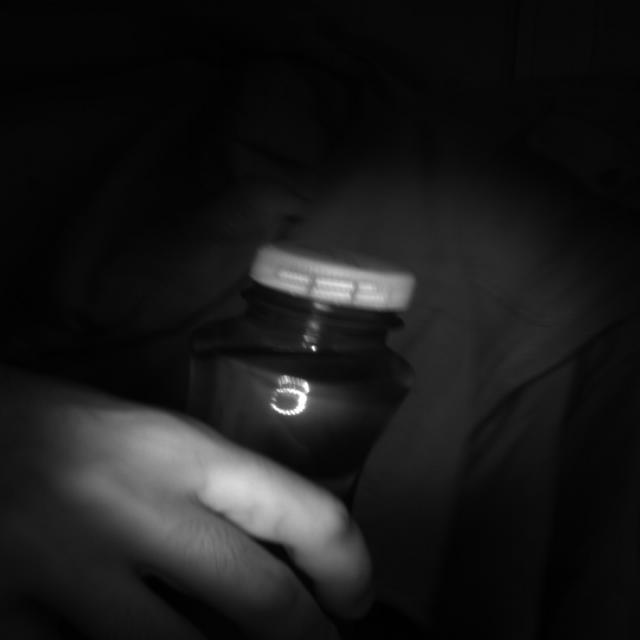Not Good: (249, 242, 412, 332)
